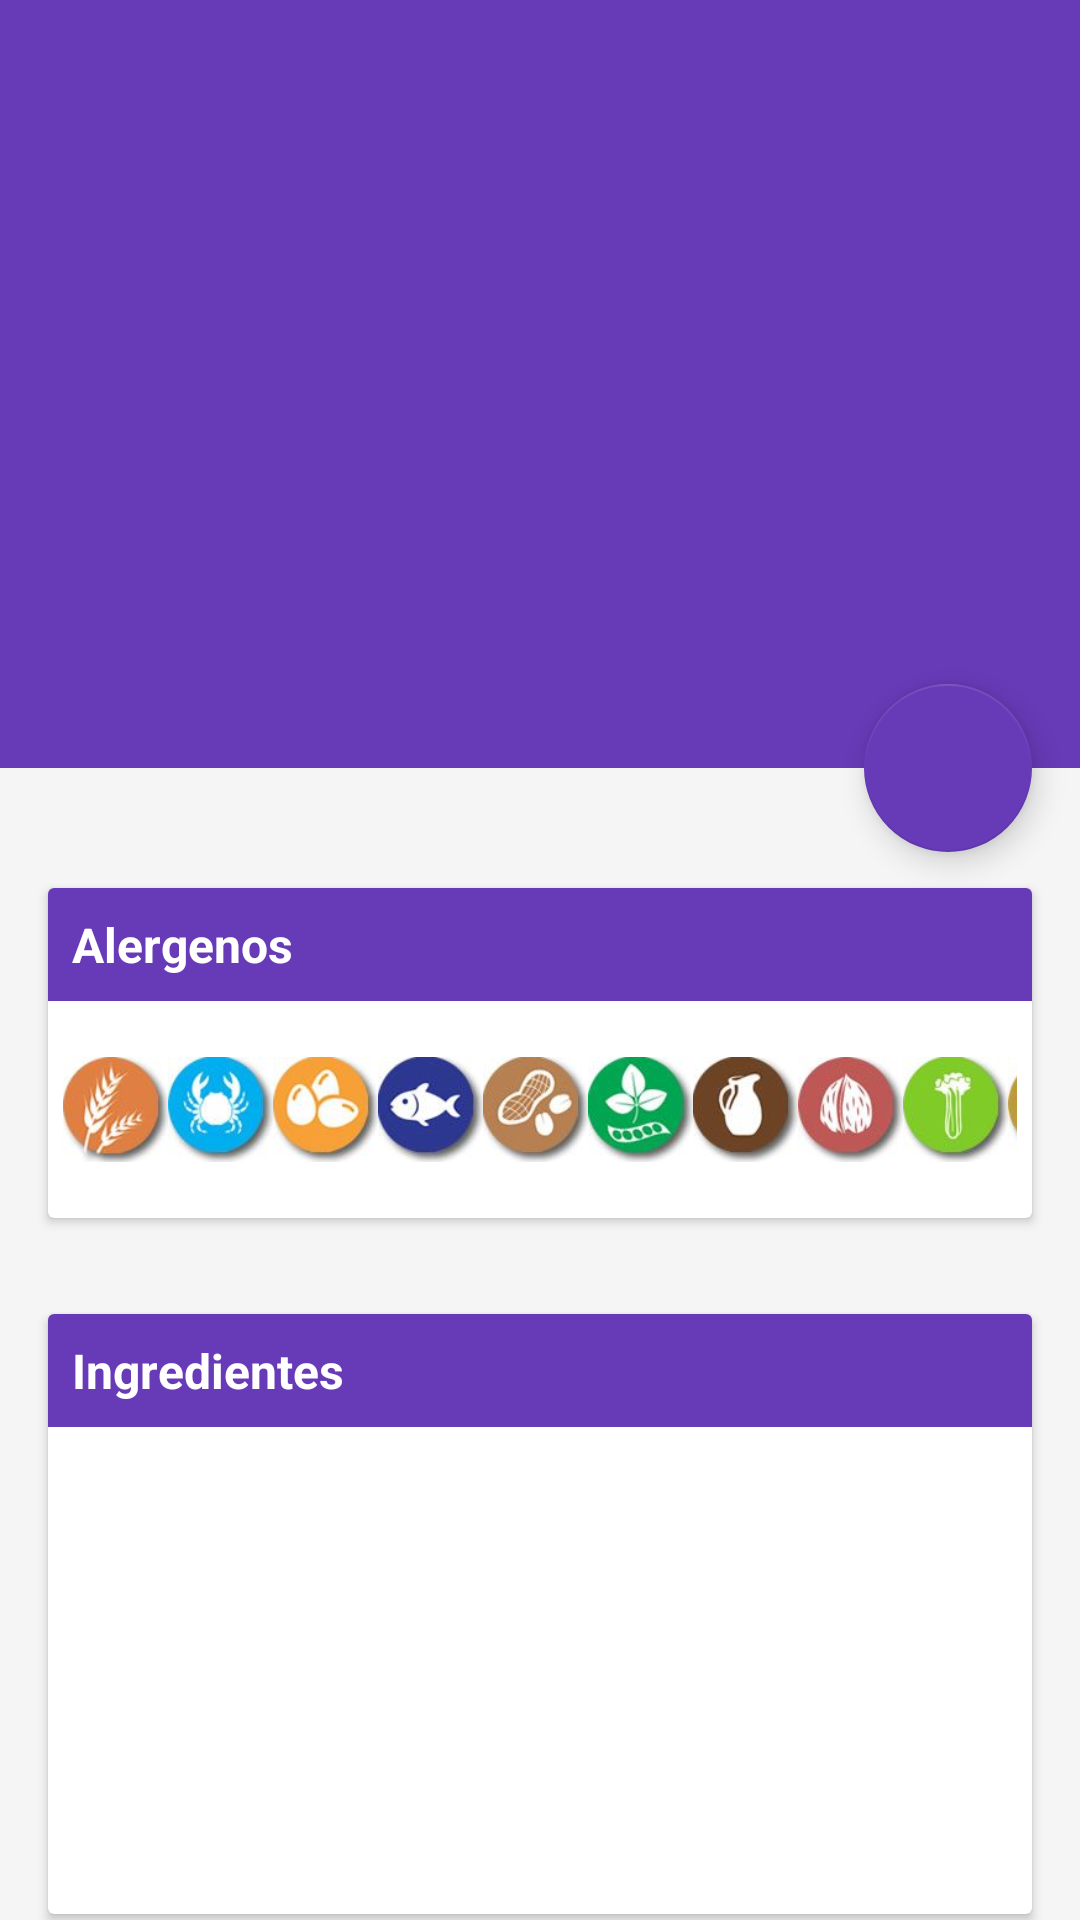

Where icons sit on this 1080*1920 app screen, as bbox=[x1, y1, x2, y2]:
apio: bbox=[903, 1057, 1007, 1161]
cacahuetes: bbox=[483, 1057, 587, 1161]
crustaceos: bbox=[168, 1057, 272, 1161]
frutossecos: bbox=[798, 1057, 902, 1161]
gluten: bbox=[63, 1057, 167, 1162]
huevos: bbox=[273, 1057, 377, 1161]
lacteos: bbox=[693, 1057, 797, 1161]
pescados: bbox=[378, 1057, 482, 1161]
soja: bbox=[588, 1057, 692, 1161]
